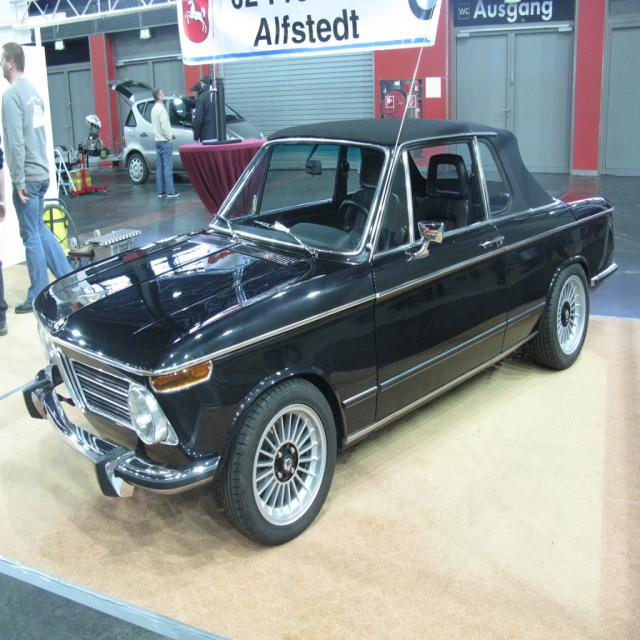car: (20, 0, 618, 543)
